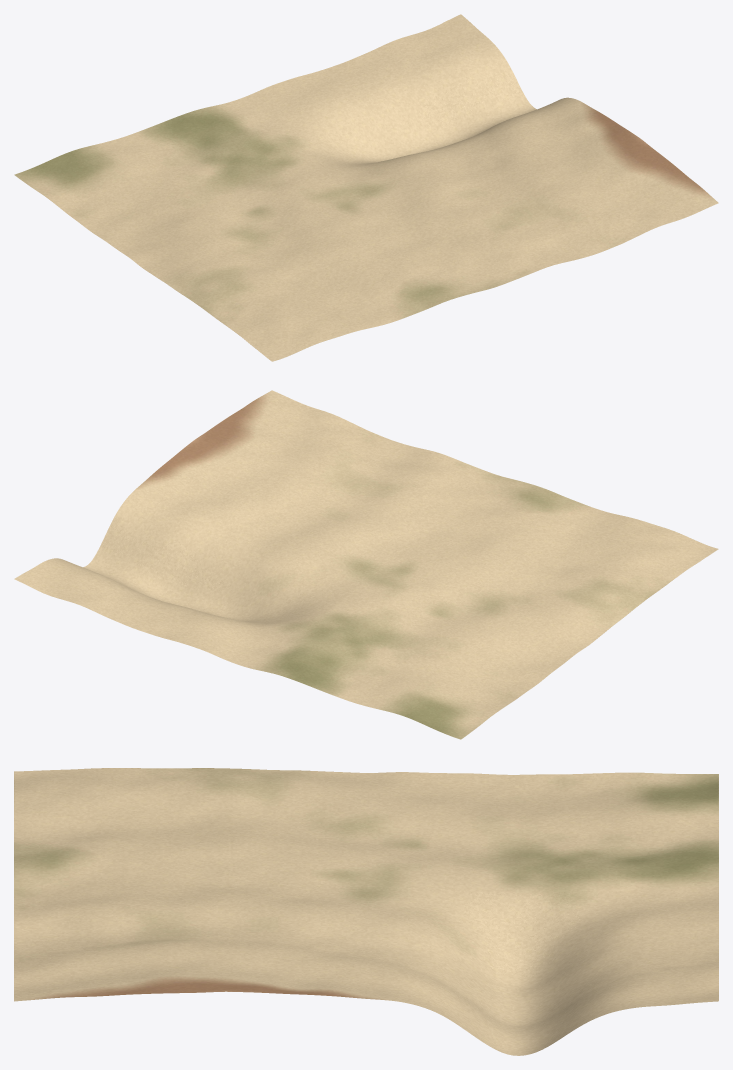
File: IO_Seafloor_Test_30m.glb
3 renders of one model, top to bottom at view 1: azimuth 30°, elevation 25°; view 2: azimuth 150°, elevation 25°; view 3: azimuth 270°, elevation 25°, orthographic. The views are drawn at different scales.
Parts seen in each view (by area): view 1: IO_Seafloor_Test_30m; view 2: IO_Seafloor_Test_30m; view 3: IO_Seafloor_Test_30m.
Boxes of the visible parts, box(x1,y1,x2,y2) form: IO_Seafloor_Test_30m: box(14, 14, 718, 361); IO_Seafloor_Test_30m: box(14, 390, 718, 739); IO_Seafloor_Test_30m: box(14, 768, 718, 1055).
Bounding box in the file's own units: 30 × 4.09 × 30.
1 material, 1 textured.
